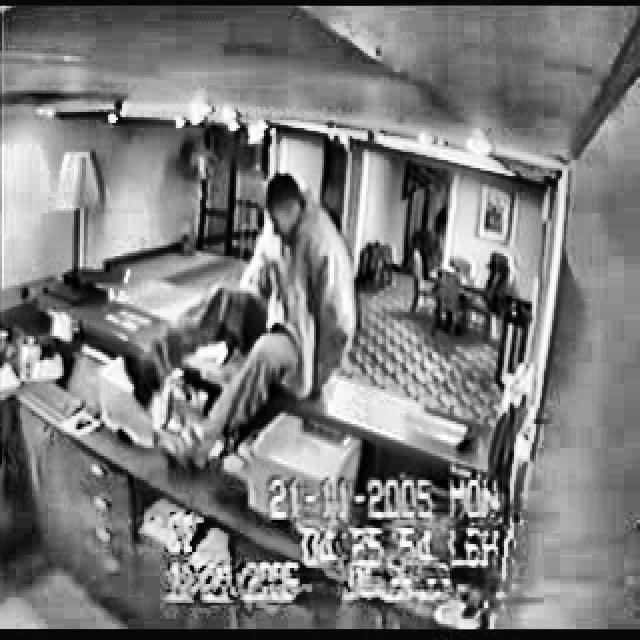burglary: (97, 165, 360, 531)
